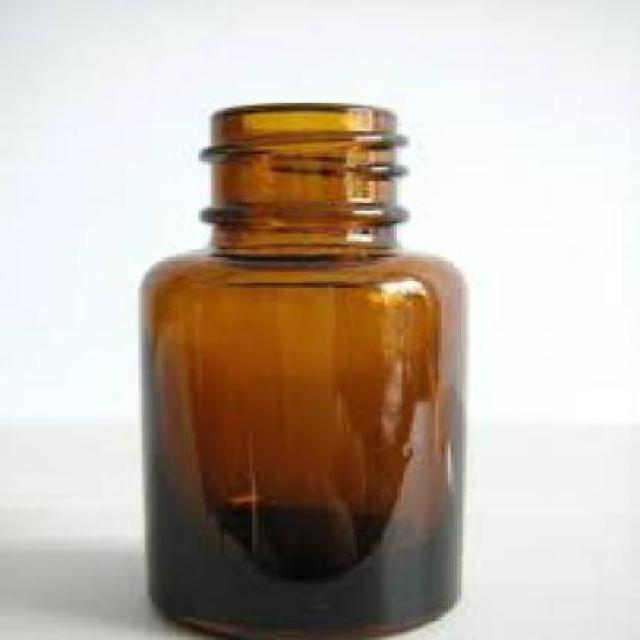kaca: (139, 106, 463, 639)
